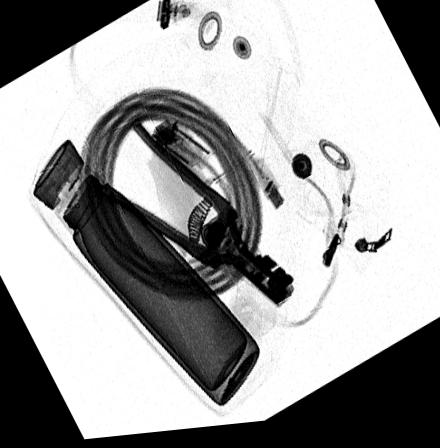Pliers: (98, 122, 295, 310)
